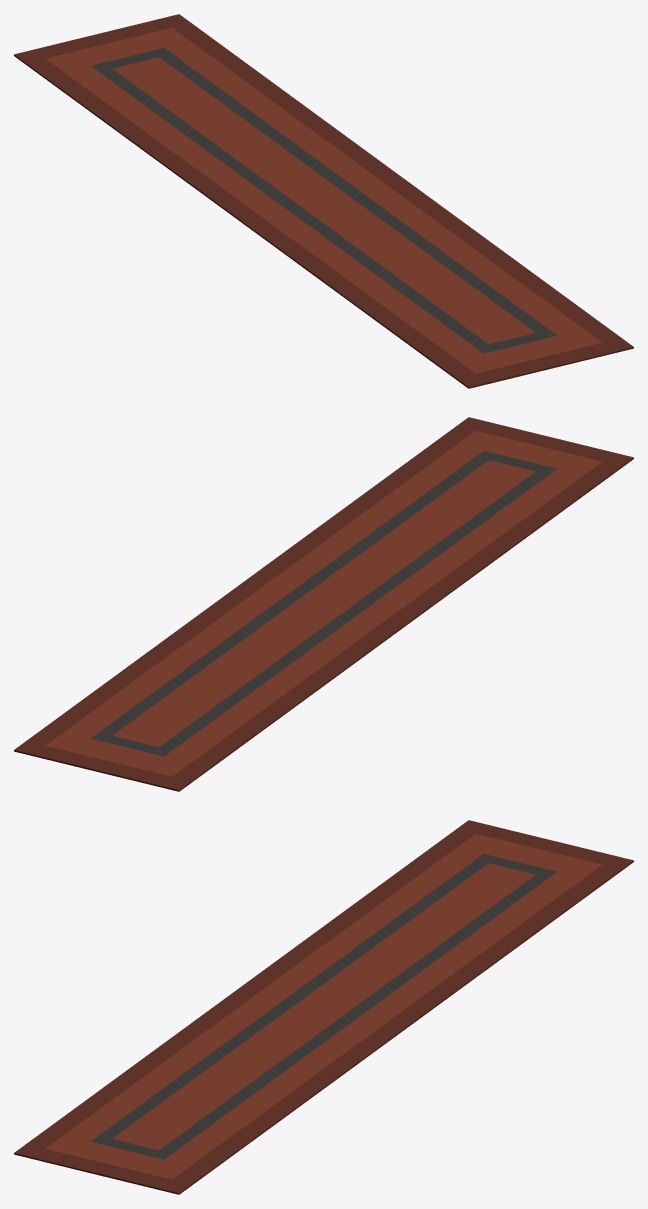
The model's file is SM_Prop_Rug_Large_01.glb.
3 renders of one model, top to bottom at view 1: azimuth 30°, elevation 25°; view 2: azimuth 150°, elevation 25°; view 3: azimuth 330°, elevation 25°, orthographic.
Visible parts, largest first — view 1: SM_Prop_Rug_Large_01; view 2: SM_Prop_Rug_Large_01; view 3: SM_Prop_Rug_Large_01.
Boxes of the visible parts, <box> form: SM_Prop_Rug_Large_01: <box>14,14,633,388</box>; SM_Prop_Rug_Large_01: <box>14,417,633,791</box>; SM_Prop_Rug_Large_01: <box>14,820,633,1194</box>.
Size of the model in its own units: 0.0263 by 0.000244 by 0.1253.
Materials: 1 (1 with a texture image).
